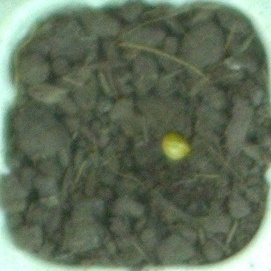chilli seed: (161, 132, 192, 160)
